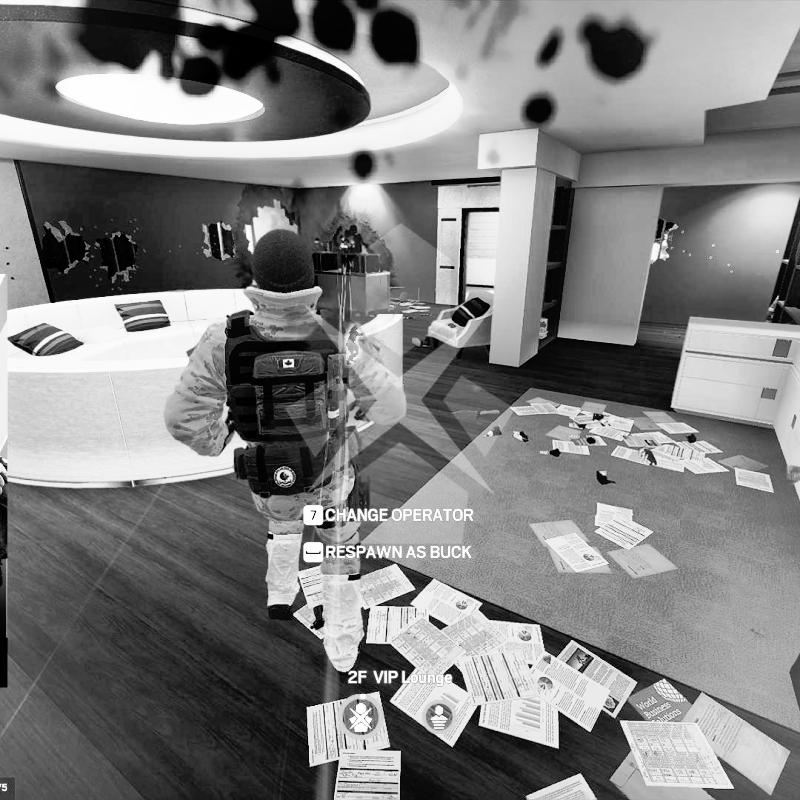Character: (162, 221, 410, 678), (336, 235, 356, 268)
Head: (249, 226, 317, 308)
